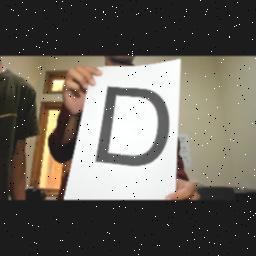d: (94, 80, 174, 170)
